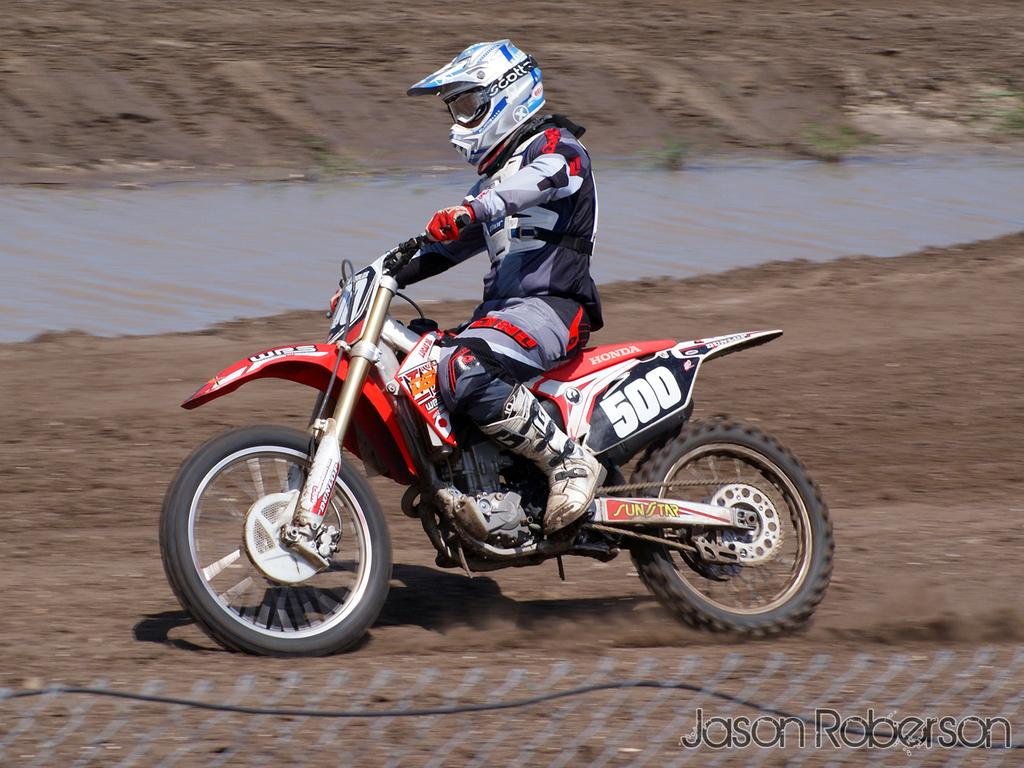helmet: (406, 38, 546, 167)
